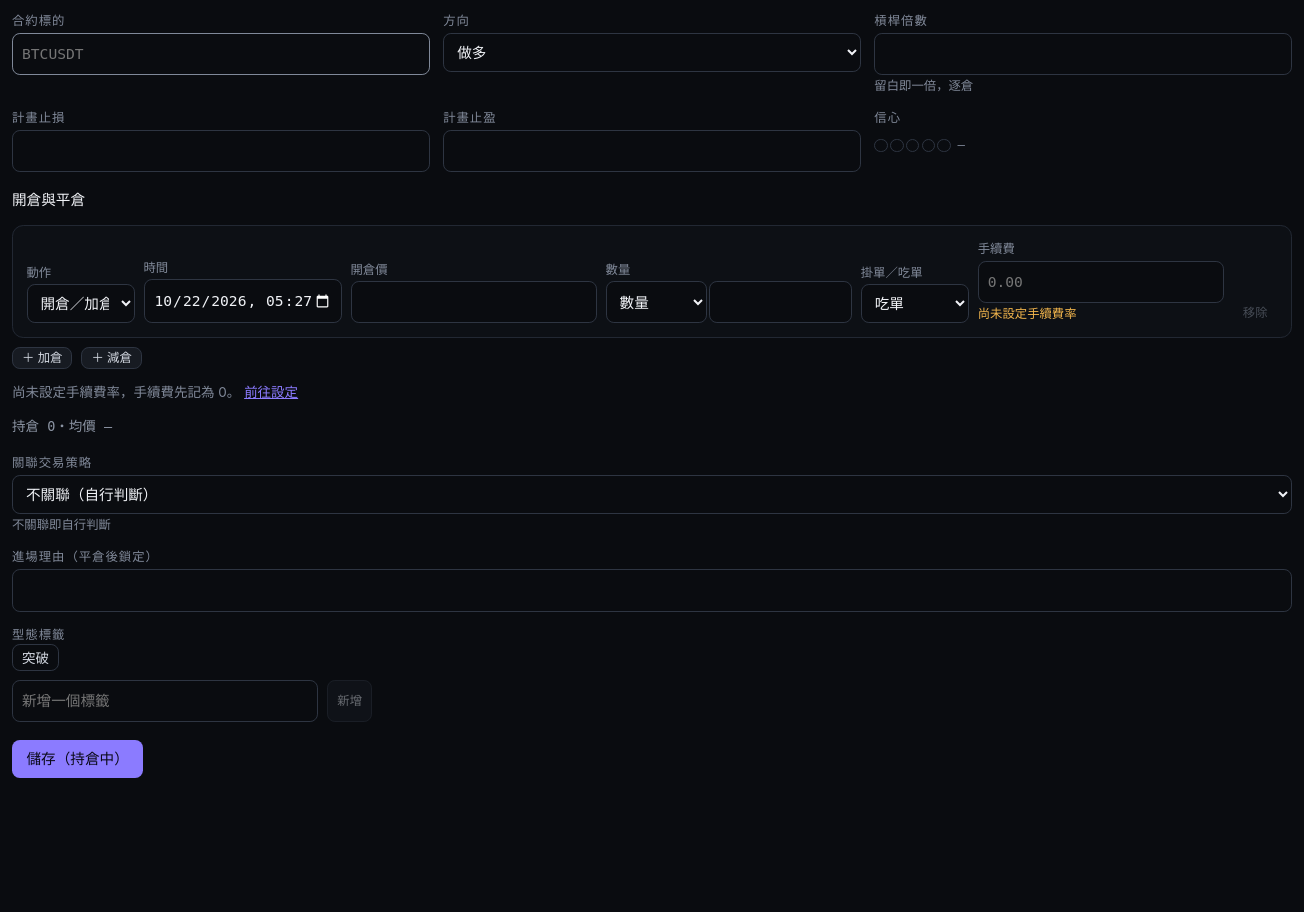
ContractTradeForm：記一筆 › 輸入成交即時顯示持倉與均價；尚未設定費率時提示並附前往設定
Step 1. Type "97905" into the field with test id "fill-price" → (474,302), box [350, 281, 597, 323]
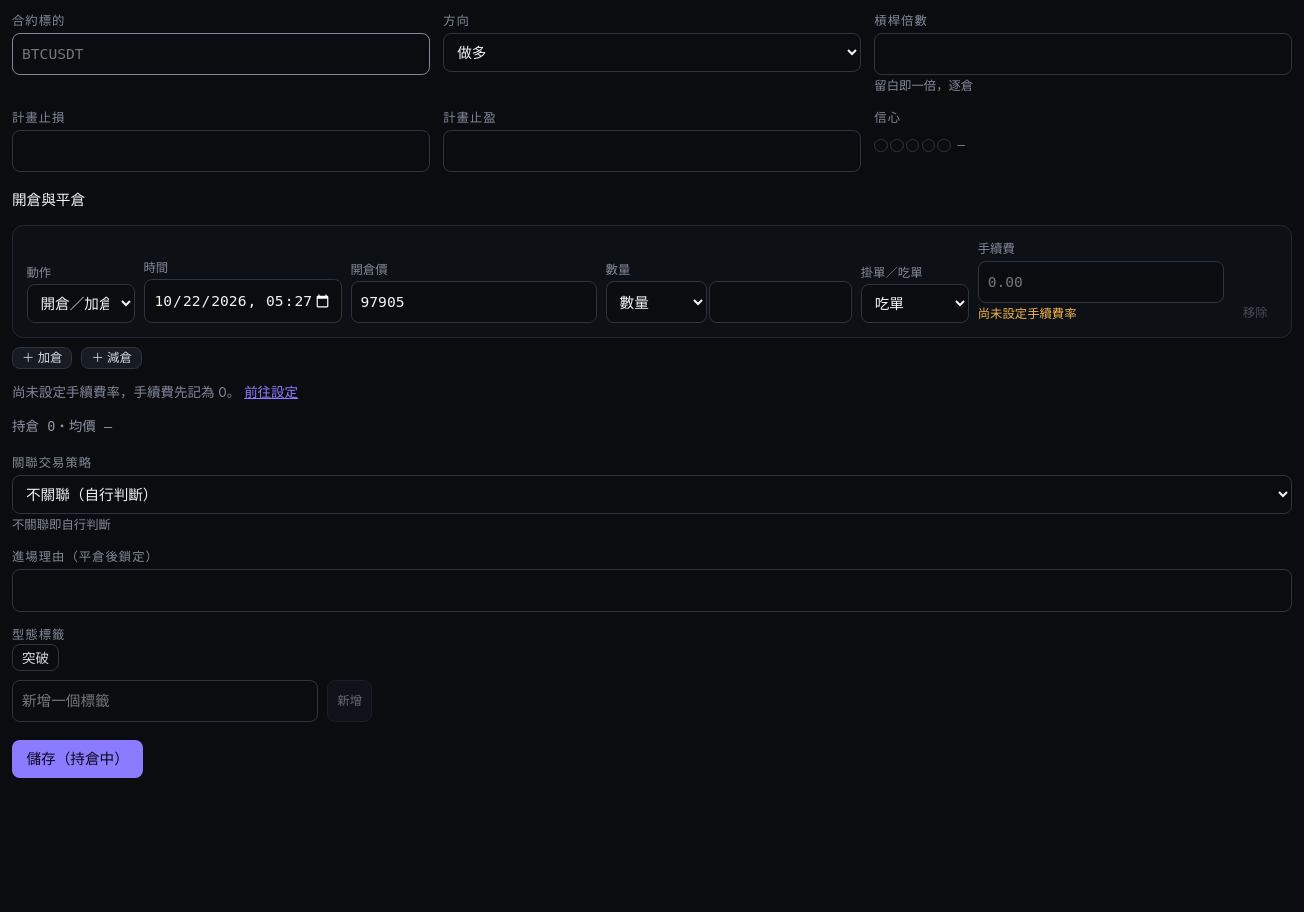
Step 2. Type "0.030" into the field with test id "fill-quantity" → (780,302), box [709, 281, 852, 323]
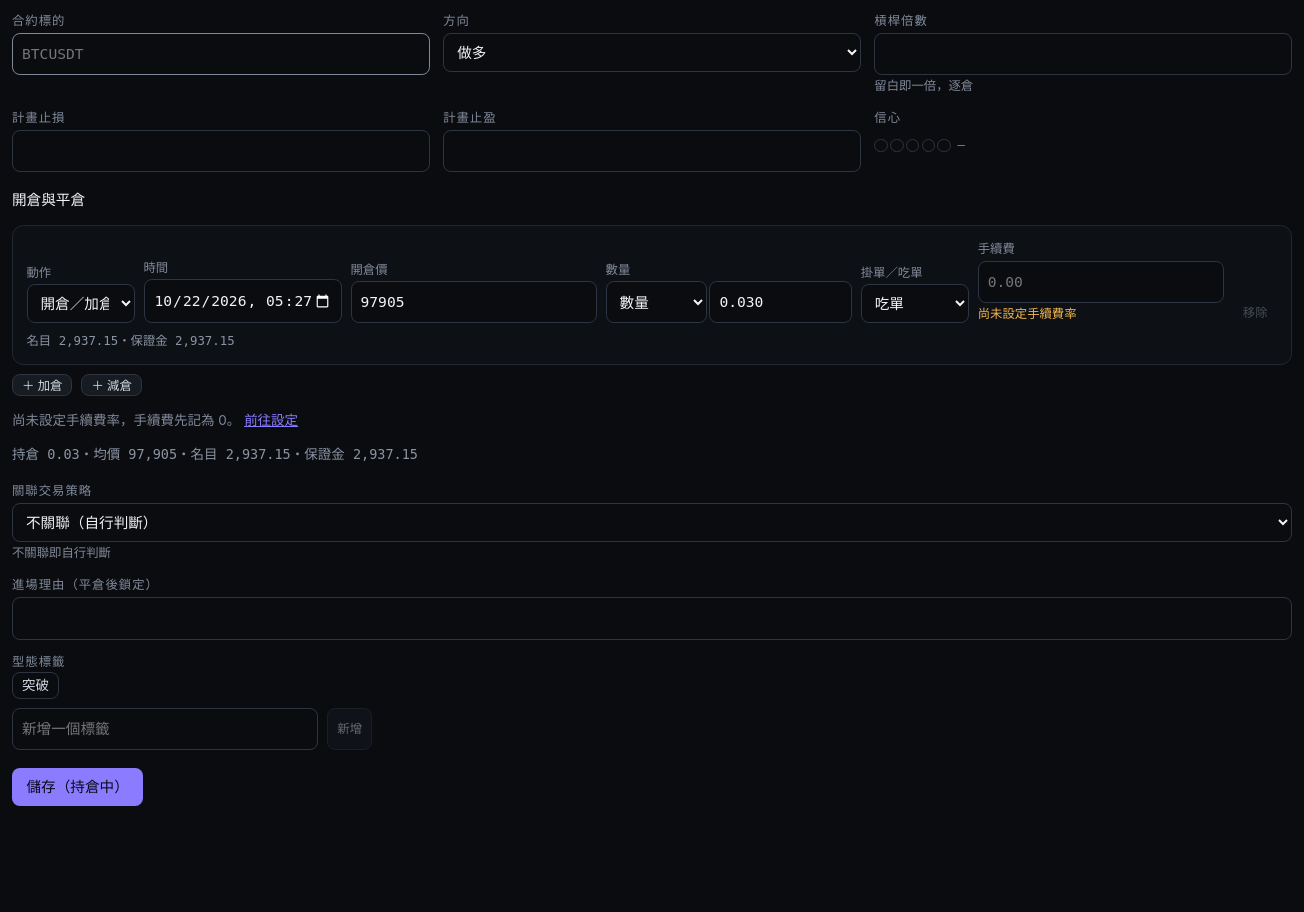
Expected: the element with test id "fee-rate-missing" shows "尚未設定手續費率", [12, 412, 244, 428]
Result: the text with test id "preview-position" reads "0.03" at [47, 446, 80, 462]
Result: the text with test id "preview-average-entry" reads "97,905" at [128, 446, 177, 462]
